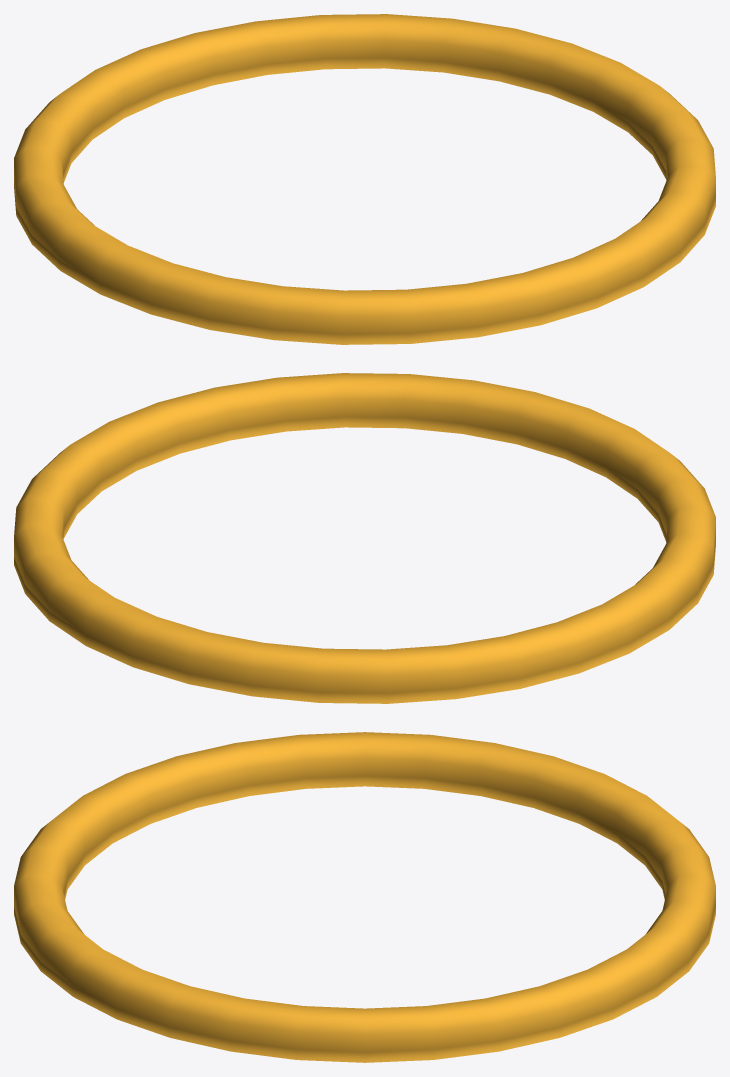
File: ring.fbx
3 renders of one model, top to bottom at view 1: azimuth 30°, elevation 25°; view 2: azimuth 150°, elevation 25°; view 3: azimuth 270°, elevation 25°, orthographic.
Visible parts, largest first — view 1: Circle; view 2: Circle; view 3: Circle.
Part boxes in pixels (bbox=[...]): Circle: bbox=[14, 14, 715, 344]; Circle: bbox=[14, 373, 715, 703]; Circle: bbox=[14, 732, 715, 1062].
Bounding box in the file's own units: 200 × 12.24 × 200.
